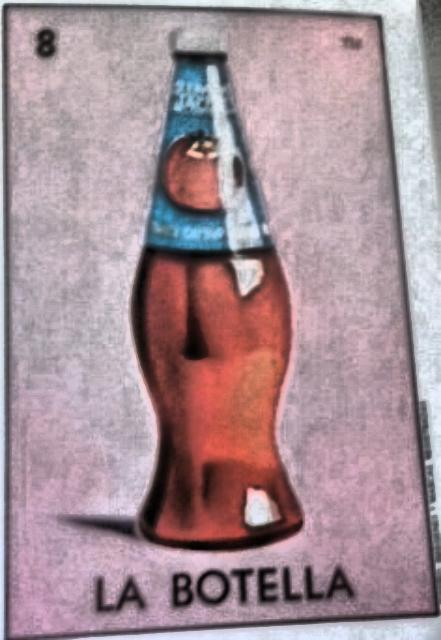La Botella: (3, 3, 440, 638)
